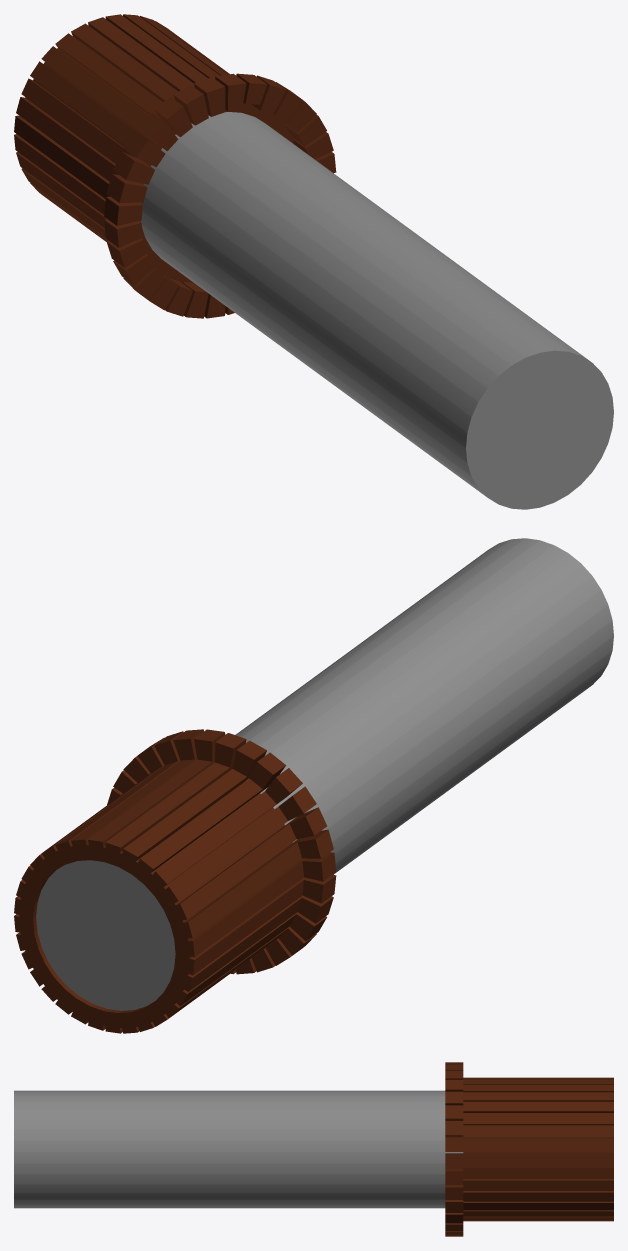
File: Commutator.fbx
The picture shows the model from 3 angles, top to bottom: view 1: azimuth 30°, elevation 25°; view 2: azimuth 150°, elevation 25°; view 3: azimuth 270°, elevation 25°; orthographic projection. The views are drawn at different scales.
Visible parts, largest first — view 1: commutator; view 2: commutator; view 3: commutator.
Part boxes in pixels (left/top/right/bottom): commutator: left=14, top=14, right=613, bottom=509; commutator: left=14, top=538, right=613, bottom=1033; commutator: left=14, top=1062, right=613, bottom=1236.
Size of the model in its own units: 14.22 by 14.22 by 48.97.
